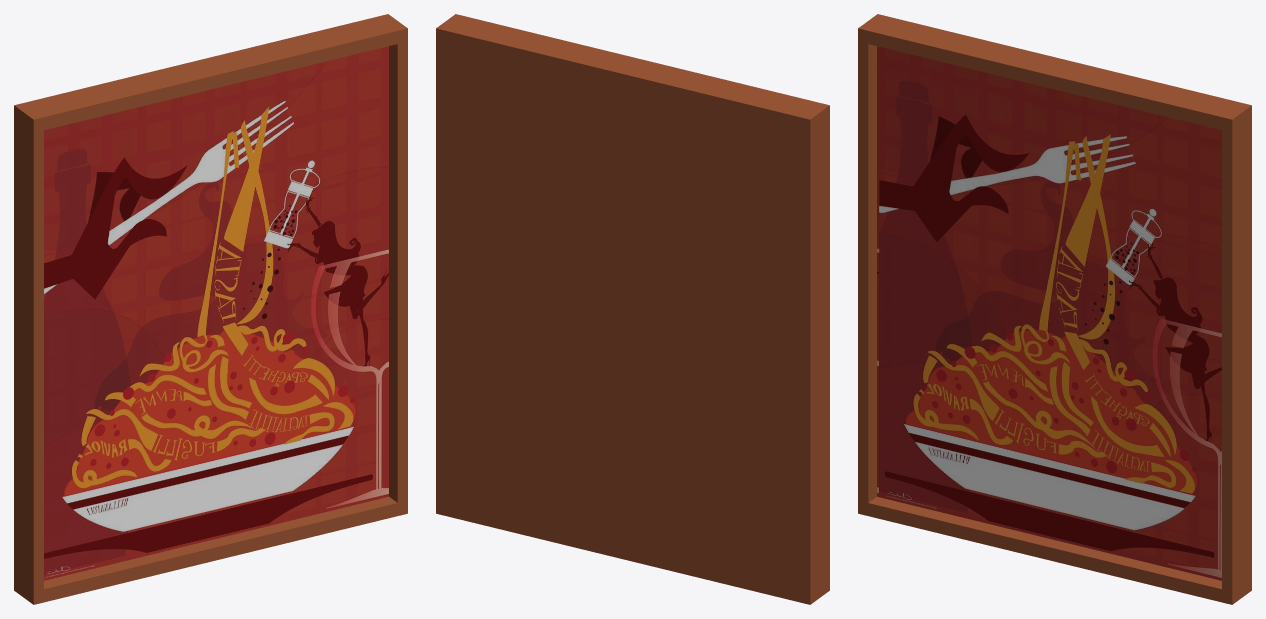
File: italian_paint_a.fbx
3 views of the same model, side by side, from view 1: azimuth 30°, elevation 25°; view 2: azimuth 150°, elevation 25°; view 3: azimuth 330°, elevation 25° (orthographic).
Parts seen in each view (by area): view 1: Cube.007; view 2: Cube.007; view 3: Cube.007.
Part boxes in pixels (x1=…): Cube.007: x1=14, y1=14, x2=407, y2=604; Cube.007: x1=436, y1=14, x2=829, y2=604; Cube.007: x1=858, y1=14, x2=1251, y2=604.
Bounding box in the file's own units: 22.08 × 27.36 × 2.01.
